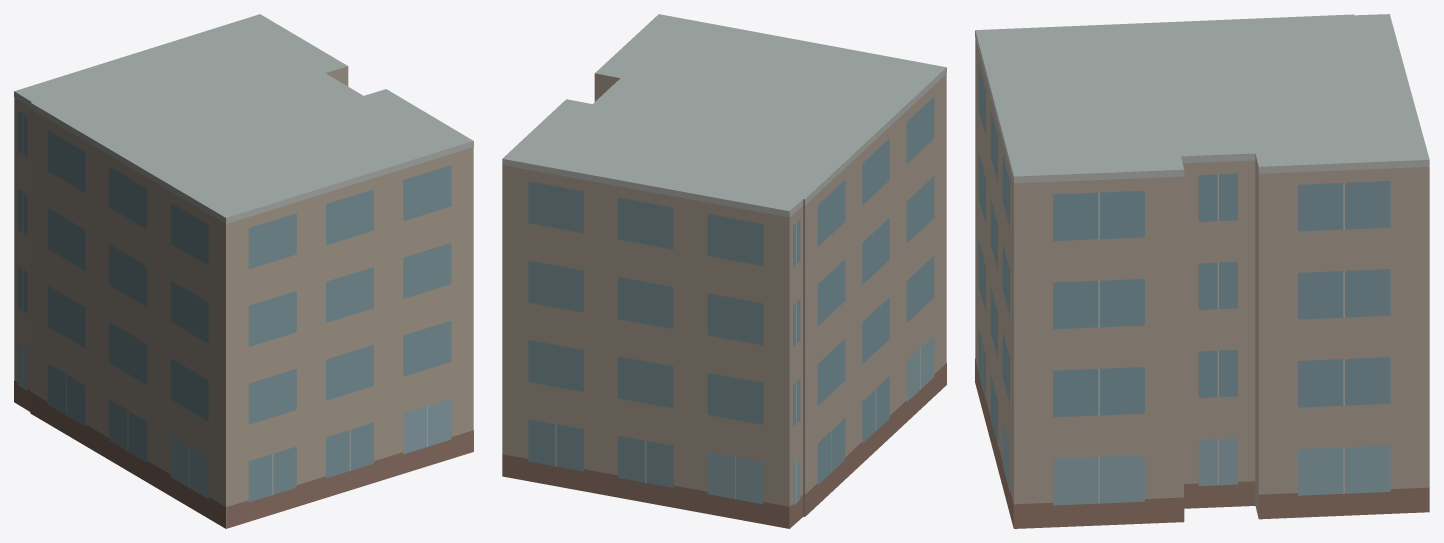
Rendered from survey-upis-32654453.glb.
3 views of the same model, side by side, from view 1: azimuth 30°, elevation 25°; view 2: azimuth 150°, elevation 25°; view 3: azimuth 270°, elevation 25° (orthographic). The views are drawn at different scales.
Visible parts, largest first — view 1: survey-upis-32654453.tmp; view 2: survey-upis-32654453.tmp; view 3: survey-upis-32654453.tmp.
Boxes of the visible parts, <box> form: survey-upis-32654453.tmp: <box>14,14,473,528</box>; survey-upis-32654453.tmp: <box>502,14,946,528</box>; survey-upis-32654453.tmp: <box>975,14,1429,528</box>.
Size of the model in its own units: 12.28 by 12.4 by 14.51.
